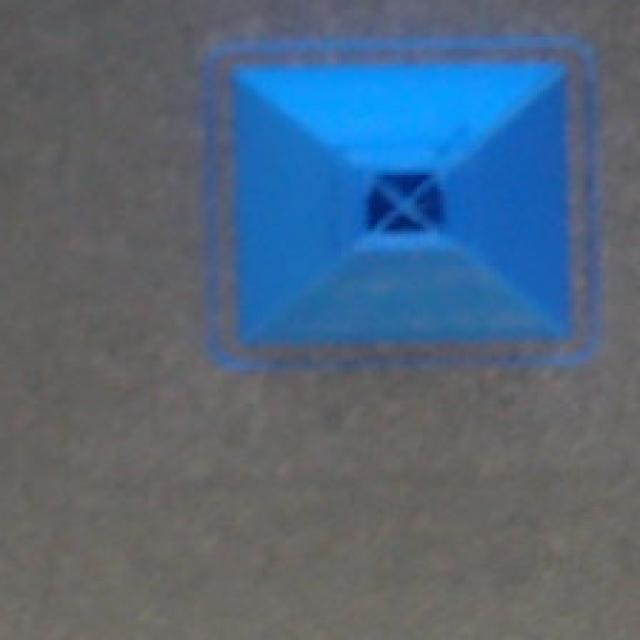mistake: (206, 39, 597, 364)
